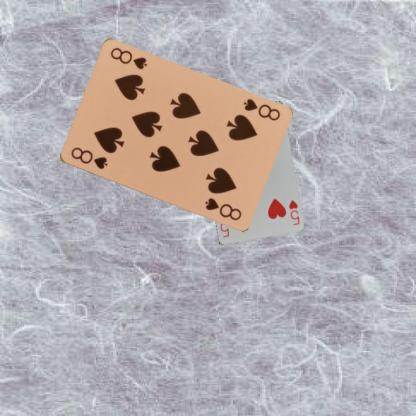5h: (286, 197, 300, 226)
8s: (240, 96, 282, 122), (68, 144, 108, 171)
